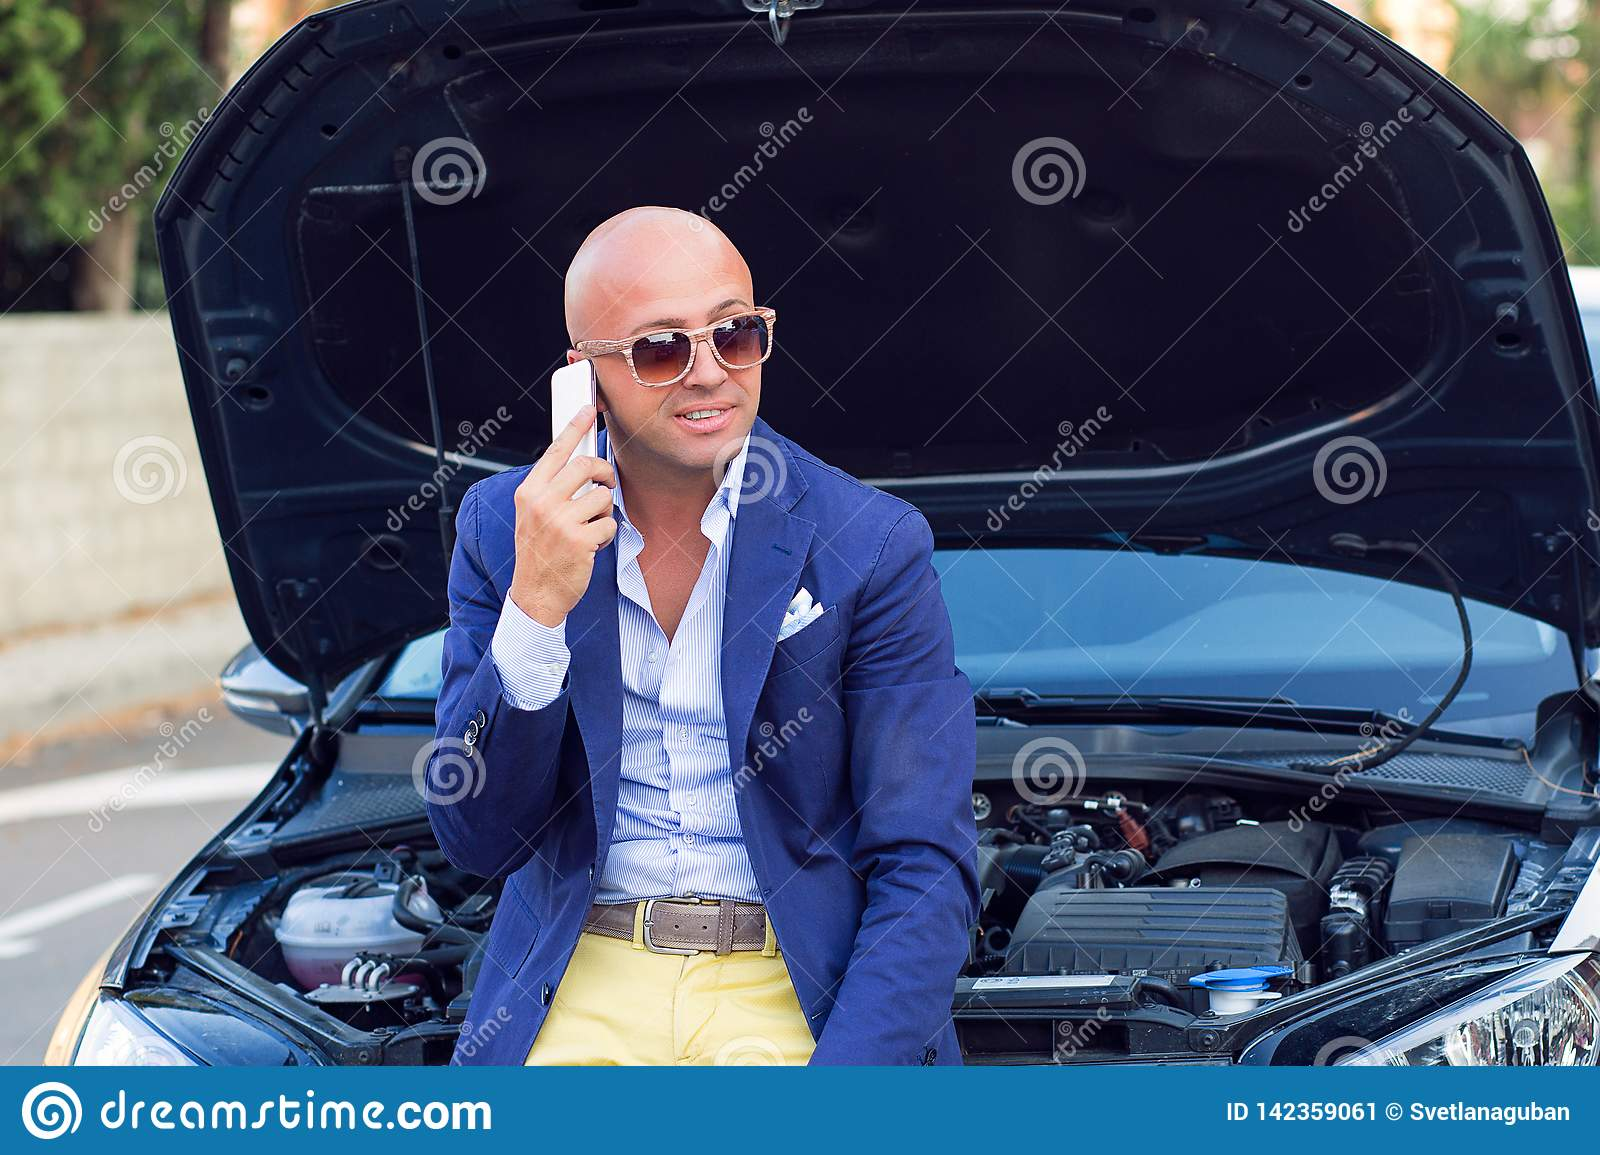phone: (547, 355, 602, 507)
talk: (507, 282, 766, 623)
